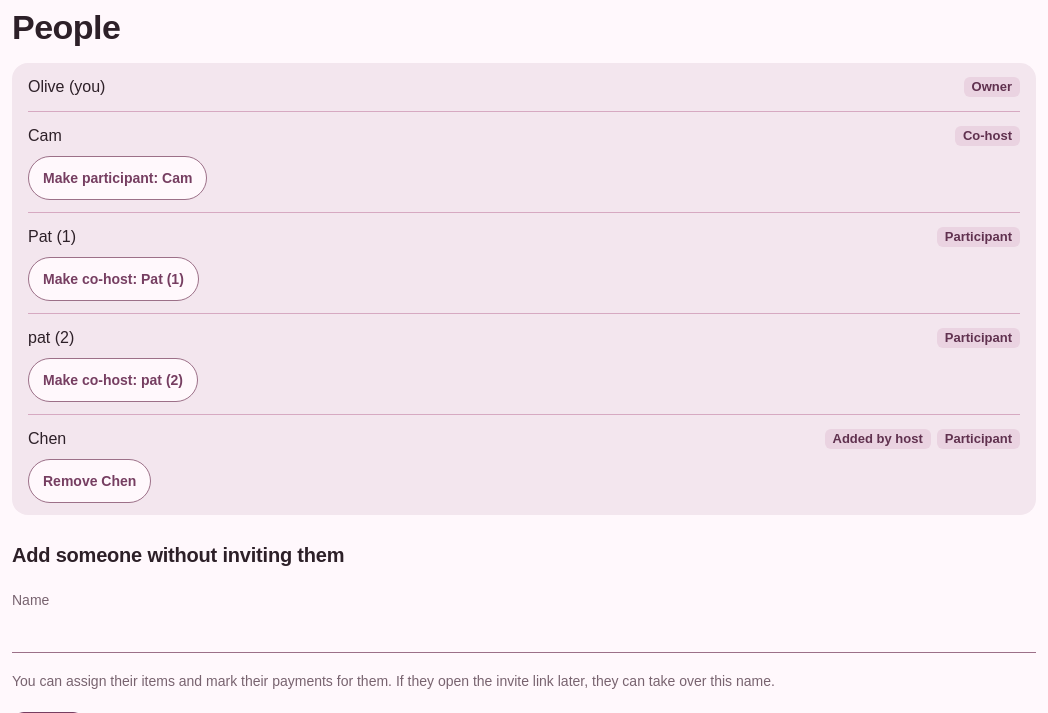
PeoplePage › host-added people › marks guests, offers remove instead of a role change, and shows a failed remove
Expected: the text "Added by host" is shown, [824,429,931,449]
Click the button "Remove Chen" at point(90, 481), box [28,459,151,503]
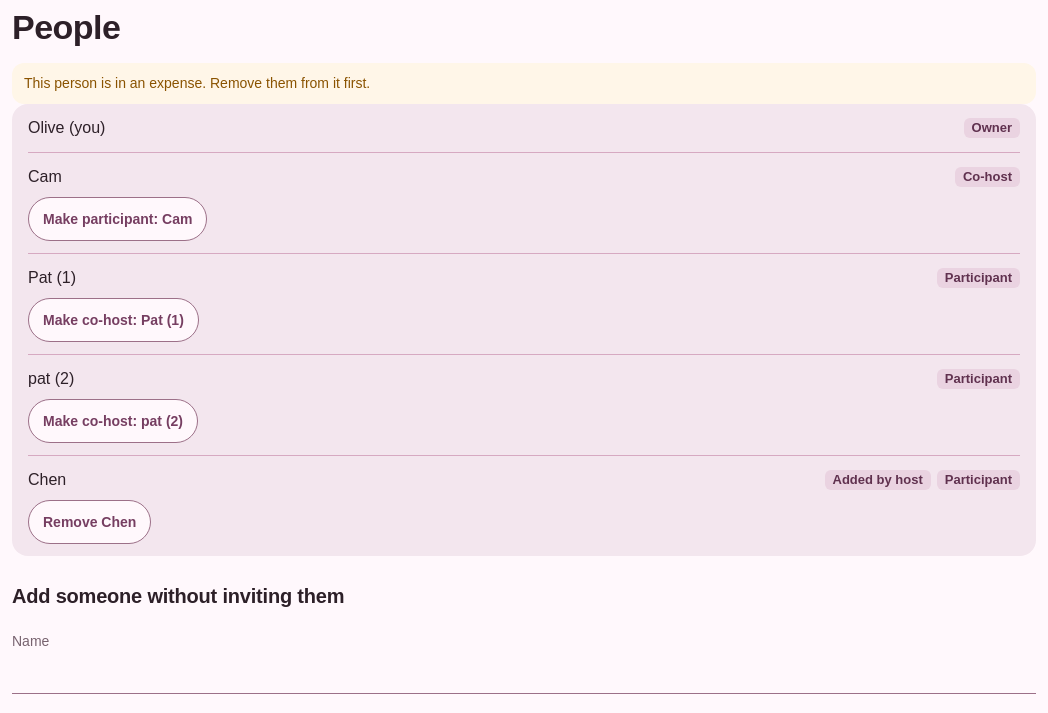
Expected: the message shows "This person is in an expense.", [24,75,370,91]
